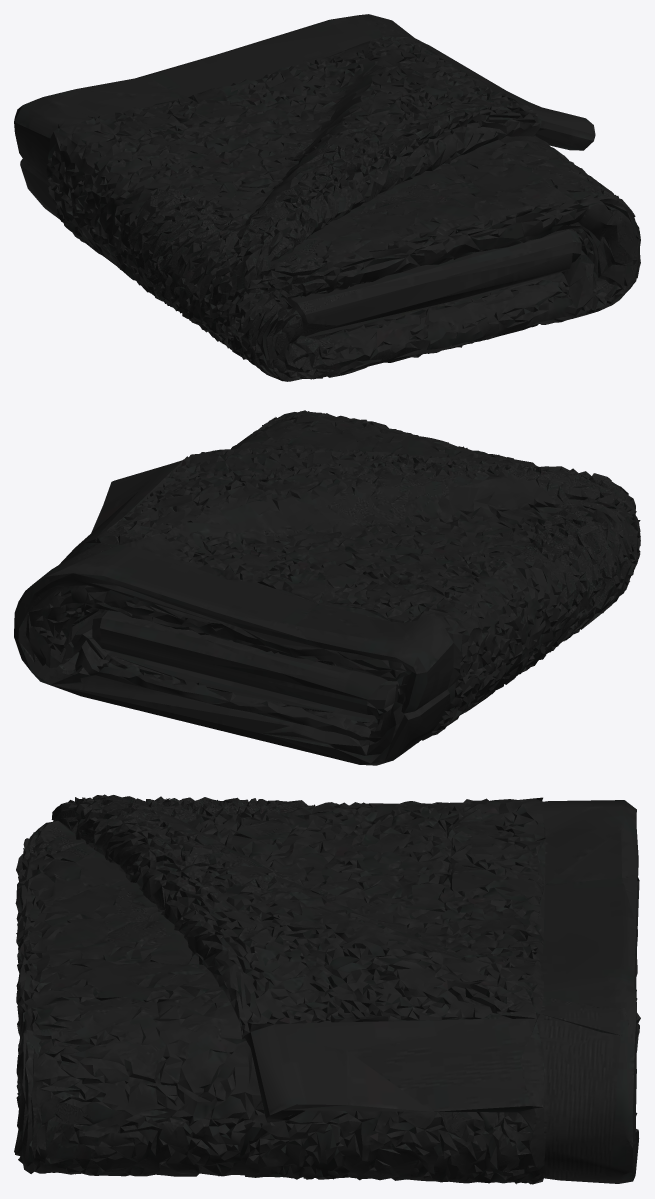
File: DEMO-P036.glb
The picture shows the model from 3 angles, top to bottom: view 1: azimuth 30°, elevation 25°; view 2: azimuth 150°, elevation 25°; view 3: azimuth 270°, elevation 25°; orthographic projection. The views are drawn at different scales.
Size of the model in its own units: 1.9 by 0.6056 by 1.73.
Materials: 1 (1 with a texture image).
